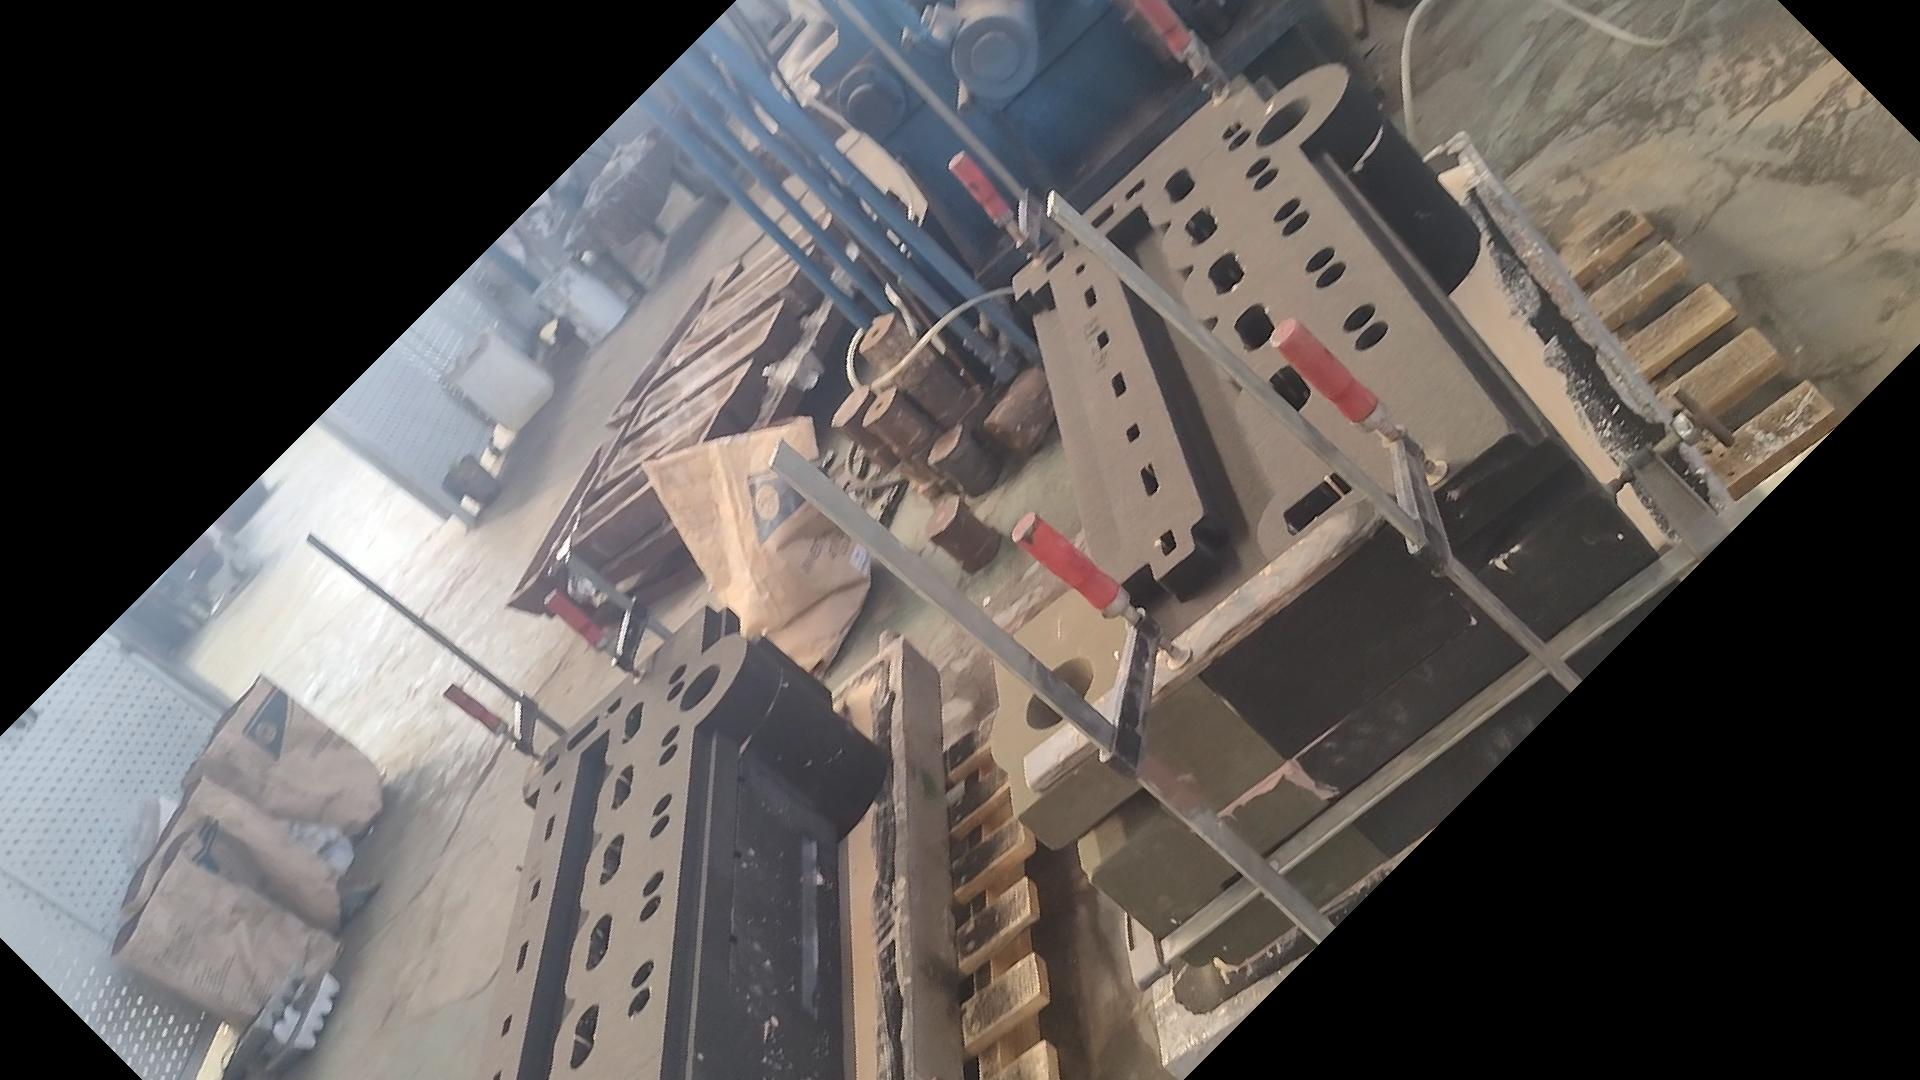pouring hole: (1022, 654, 1095, 731), (1253, 92, 1311, 150), (676, 661, 723, 711)
